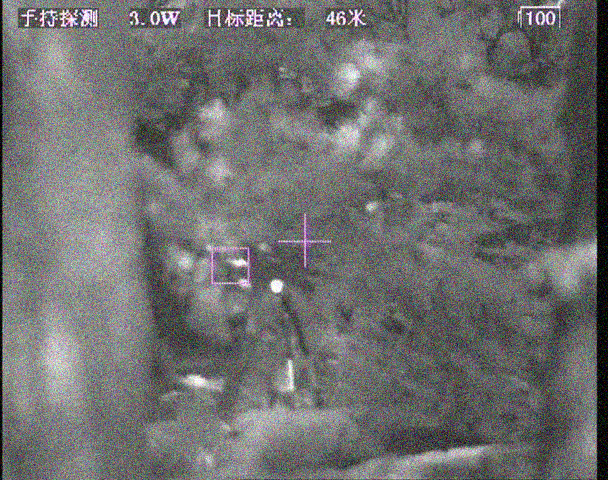my: (269, 278, 284, 294)
